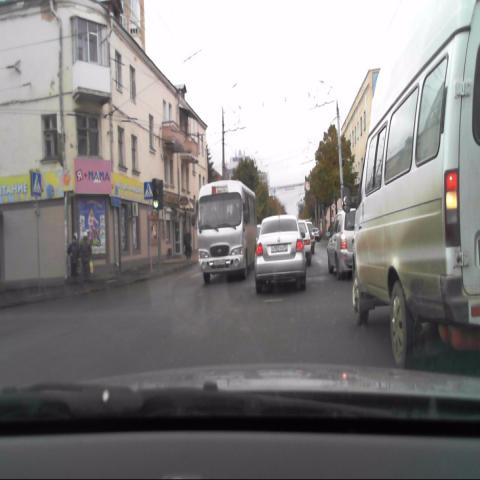5_19_1: (31, 170, 42, 197), (144, 180, 153, 200)
